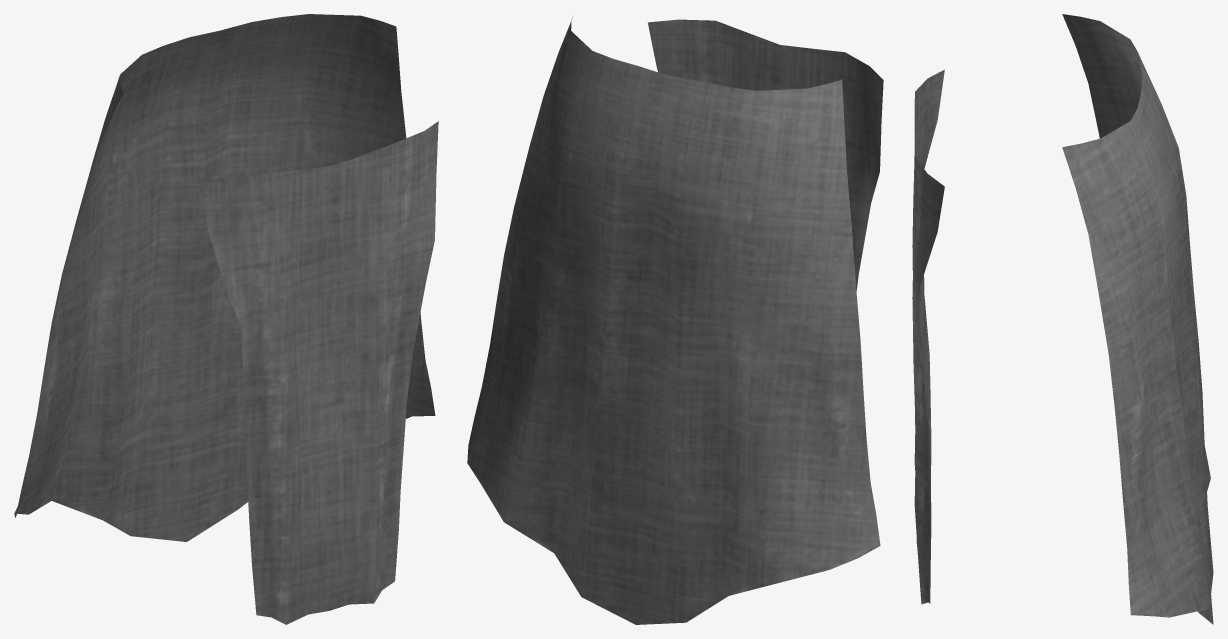
File: clo_easterling_torso.fbx
3 views of the same model, side by side, from view 1: azimuth 30°, elevation 25°; view 2: azimuth 150°, elevation 25°; view 3: azimuth 270°, elevation 25° (orthographic).
Visible parts, largest first — view 1: clo_easterling_torso; view 2: clo_easterling_torso; view 3: clo_easterling_torso.
Part boxes in pixels (x1,y1,x2,y2): clo_easterling_torso: [14, 14, 438, 624]; clo_easterling_torso: [467, 17, 883, 624]; clo_easterling_torso: [912, 14, 1213, 624].
Bounding box in the file's own units: 0.515 × 0.3198 × 0.6293.
Materials: 1 (1 with a texture image).
